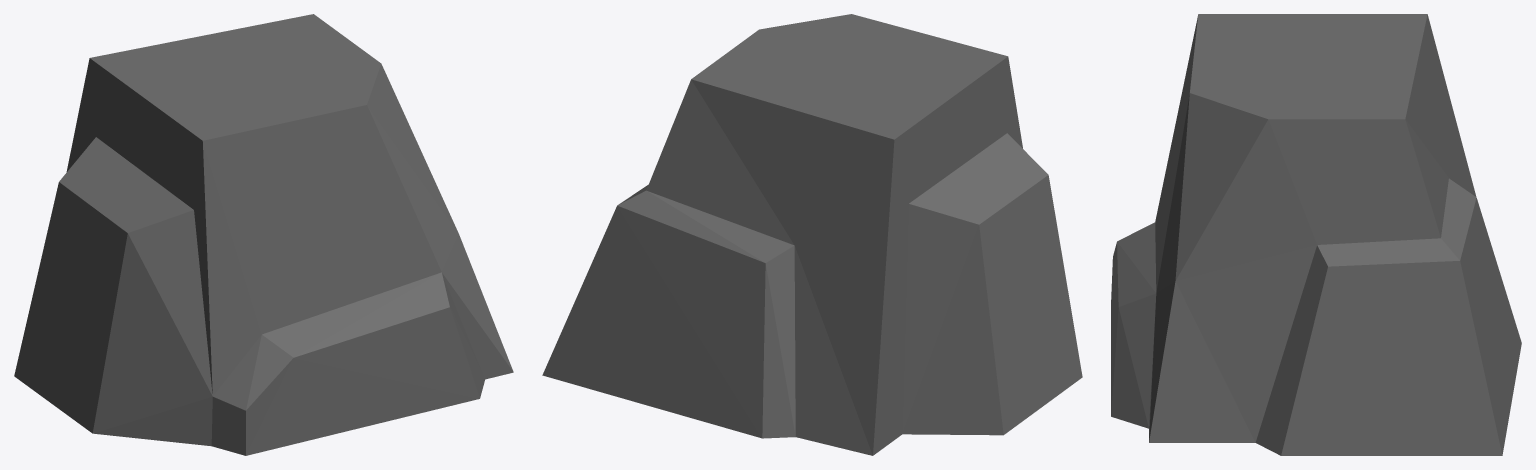
File: StoneA.fbx
The picture shows the model from 3 angles, left to right: view 1: azimuth 30°, elevation 25°; view 2: azimuth 150°, elevation 25°; view 3: azimuth 270°, elevation 25°; orthographic projection.
Parts seen in each view (by area): view 1: StoneA; view 2: StoneA; view 3: StoneA.
Boxes of the visible parts, x1=… form: StoneA: x1=14, y1=14, x2=513, y2=455; StoneA: x1=542, y1=14, x2=1082, y2=455; StoneA: x1=1111, y1=14, x2=1521, y2=455.
Size of the model in its own units: 54.2 by 36.27 by 47.01.
